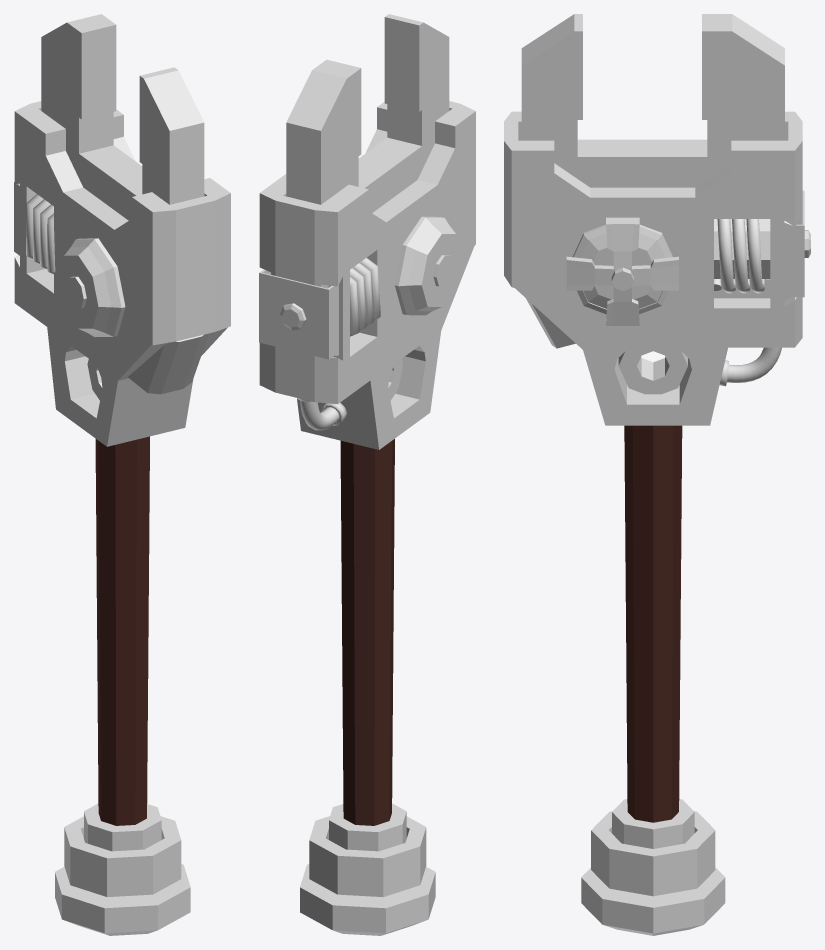
Rendered from Wrench.fbx.
The picture shows the model from 3 angles, left to right: view 1: azimuth 30°, elevation 25°; view 2: azimuth 150°, elevation 25°; view 3: azimuth 270°, elevation 25°; orthographic projection. The views are drawn at different scales.
Parts seen in each view (by area): view 1: New Wrench; view 2: New Wrench; view 3: New Wrench.
Boxes of the visible parts, x1,y1,x2,y2 form: New Wrench: (14, 14, 230, 935); New Wrench: (259, 14, 475, 935); New Wrench: (504, 14, 810, 935).
Size of the model in its own units: 11.72 by 23.86 by 76.48.
